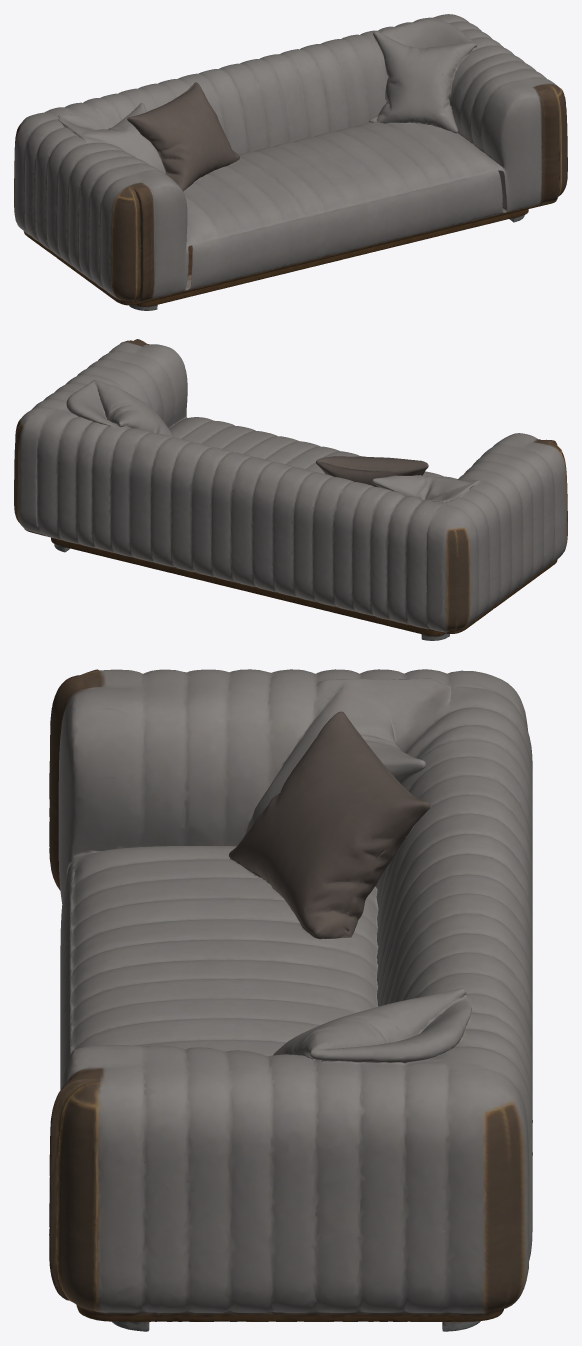
The model's file is sofa.glb.
The picture shows the model from 3 angles, top to bottom: view 1: azimuth 30°, elevation 25°; view 2: azimuth 150°, elevation 25°; view 3: azimuth 270°, elevation 25°; orthographic projection. The views are drawn at different scales.
Visible parts, largest first — view 1: world; view 2: world; view 3: world.
Part boxes in pixels (bbox=[...]): world: bbox=[14, 14, 567, 310]; world: bbox=[14, 339, 567, 640]; world: bbox=[49, 669, 532, 1331].
Size of the model in its own units: 1 by 0.2977 by 0.4576.
1 material, 1 textured.
